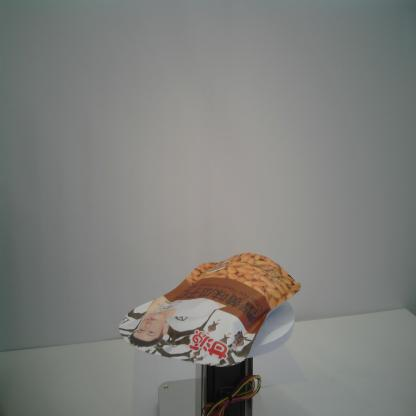Dried Fruit: (118, 251, 302, 368)
